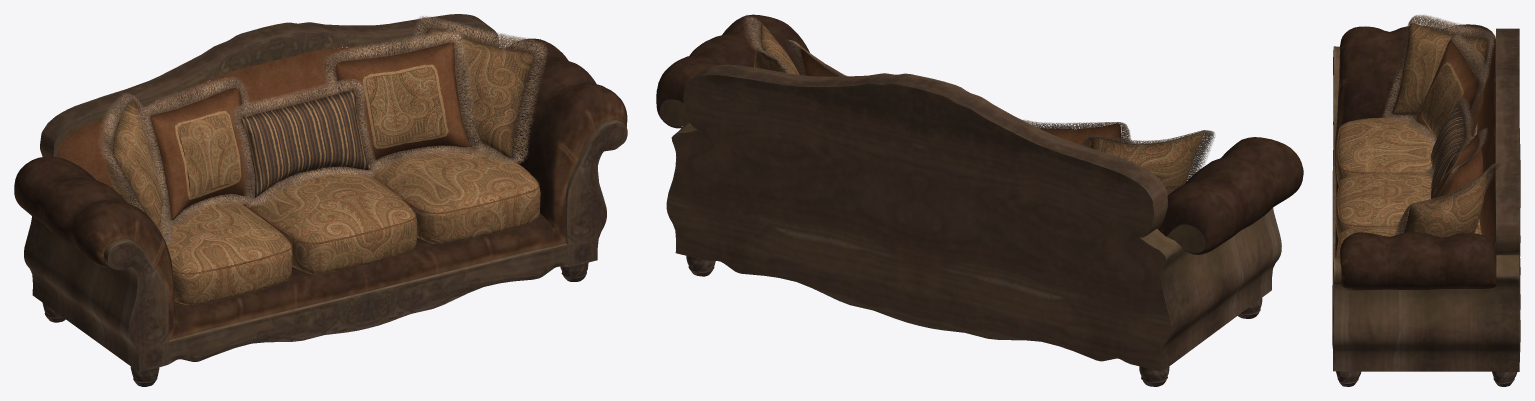
Rendered from r_sofa.glb.
3 renders of one model, left to right at view 1: azimuth 30°, elevation 25°; view 2: azimuth 150°, elevation 25°; view 3: azimuth 270°, elevation 25°, orthographic. The views are drawn at different scales.
Parts seen in each view (by area): view 1: Frame, Paisley, Fringe, Brown, Stripes, Frame_Fabric; view 2: Frame, Paisley, Fringe, Brown; view 3: Frame, Paisley, Fringe, Brown, Frame_Fabric, Stripes.
Boxes of the visible parts, left/top/right/bottom form: Frame: left=14, top=14, right=627, bottom=386; Paisley: left=106, top=27, right=540, bottom=304; Fringe: left=98, top=16, right=547, bottom=246; Brown: left=150, top=42, right=539, bottom=274; Stripes: left=174, top=64, right=448, bottom=199; Frame_Fabric: left=57, top=34, right=494, bottom=190; Frame: left=656, top=14, right=1303, bottom=386; Paisley: left=754, top=23, right=1204, bottom=194; Fringe: left=743, top=15, right=1214, bottom=181; Brown: left=800, top=46, right=1121, bottom=147; Frame: left=1332, top=24, right=1520, bottom=386; Paisley: left=1336, top=23, right=1487, bottom=257; Fringe: left=1382, top=14, right=1499, bottom=235; Brown: left=1337, top=40, right=1483, bottom=257; Frame_Fabric: left=1477, top=39, right=1495, bottom=245; Stripes: left=1422, top=61, right=1472, bottom=198.
Size of the model in its own units: 2.73 by 1.12 by 0.9231.
6 materials, 6 textured.
